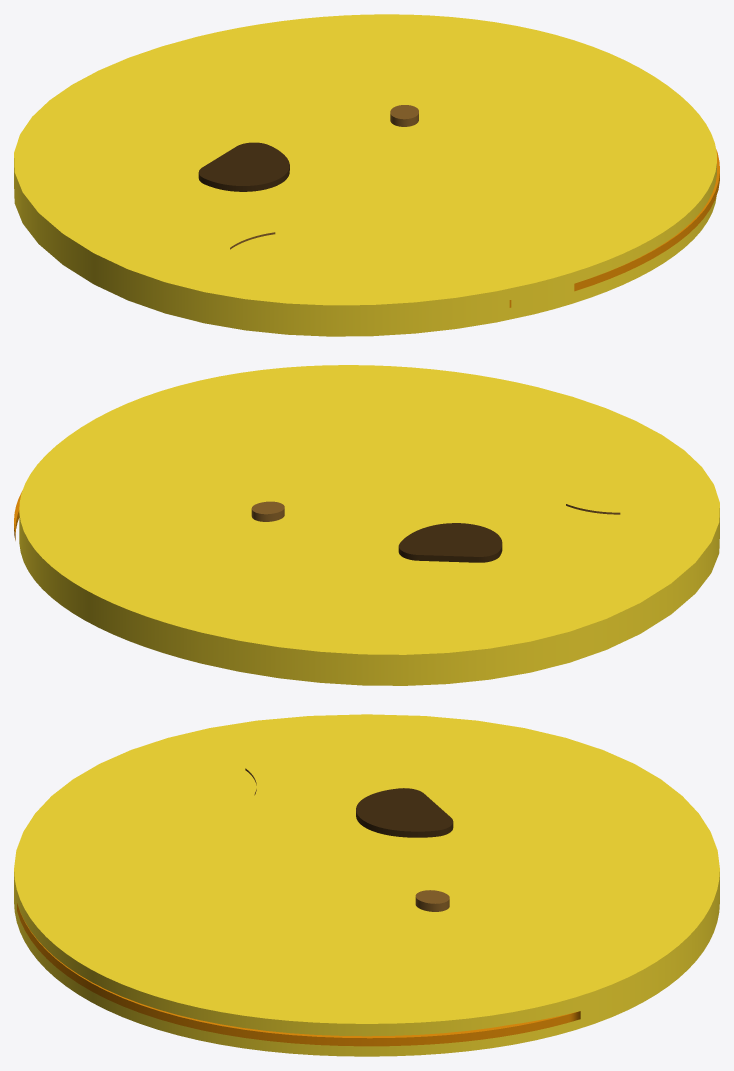
Rendered from emoji_u1f974.glb.
The picture shows the model from 3 angles, top to bottom: view 1: azimuth 30°, elevation 25°; view 2: azimuth 150°, elevation 25°; view 3: azimuth 270°, elevation 25°; orthographic projection. The views are drawn at different scales.
Visible parts, largest first — view 1: emoji_u1f974; view 2: emoji_u1f974; view 3: emoji_u1f974.
Boxes of the visible parts, <box> form: emoji_u1f974: <box>14,14,719,336</box>; emoji_u1f974: <box>14,365,719,685</box>; emoji_u1f974: <box>14,714,719,1056</box>.
Bounding box in the file's own units: 0.0327 × 0.0024 × 0.0313.
